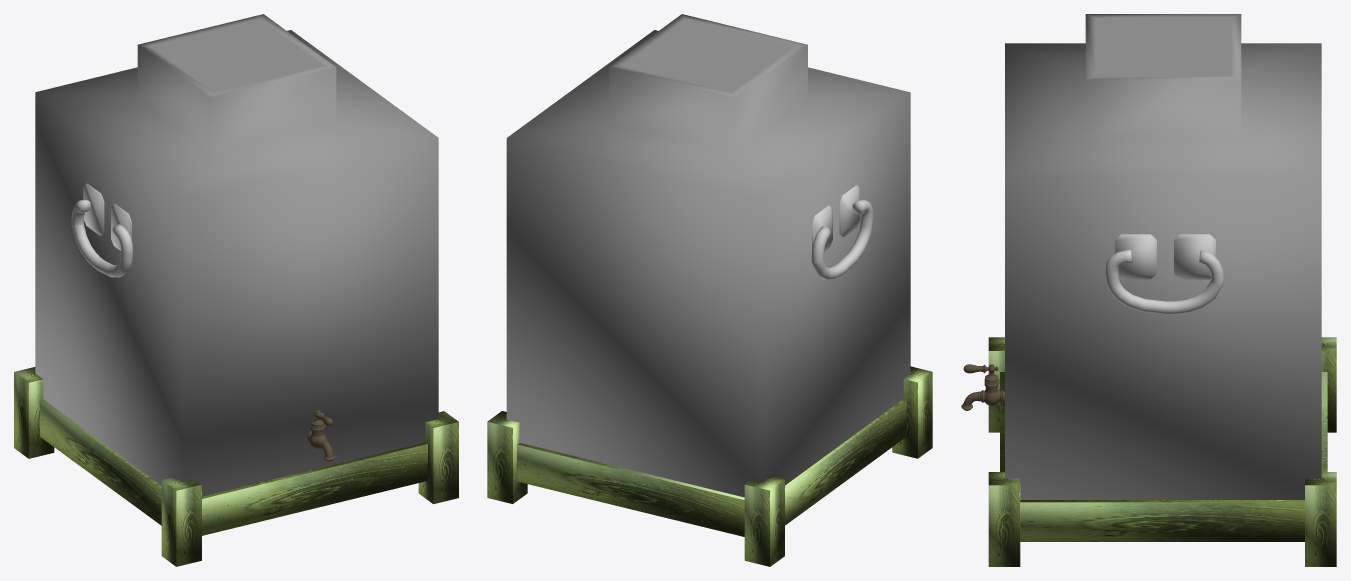
Rendered from Tank.obj.
3 views of the same model, side by side, from view 1: azimuth 30°, elevation 25°; view 2: azimuth 150°, elevation 25°; view 3: azimuth 270°, elevation 25° (orthographic). The views are drawn at different scales.
Visible parts, largest first — view 1: Box01, Box02, Box05, Box06, Box04, Loft01, Rectangle01, sub01; view 2: Box01, Box02, Box04, Box03, Box05, Loft01, Rectangle02; view 3: Box01, Box02, Box06, Box03, Loft02, Rectangle04, Rectangle03, Box04, sub01, Box05.
Boxes of the visible parts, x1=… form: Box01: x1=35, y1=14, x2=438, y2=496; Box02: x1=40, y1=399, x2=427, y2=535; Box05: x1=161, y1=476, x2=201, y2=566; Box06: x1=418, y1=411, x2=458, y2=504; Box04: x1=14, y1=367, x2=54, y2=458; Loft01: x1=71, y1=200, x2=132, y2=277; Rectangle01: x1=83, y1=183, x2=104, y2=235; sub01: x1=307, y1=410, x2=335, y2=461; Box01: x1=506, y1=14, x2=910, y2=497; Box02: x1=517, y1=399, x2=906, y2=536; Box04: x1=744, y1=476, x2=784, y2=566; Box03: x1=487, y1=411, x2=527, y2=503; Box05: x1=892, y1=366, x2=932, y2=458; Loft01: x1=811, y1=200, x2=872, y2=279; Rectangle02: x1=839, y1=185, x2=860, y2=237; Box01: x1=1005, y1=14, x2=1321, y2=499; Box02: x1=1000, y1=372, x2=1327, y2=541; Box06: x1=988, y1=472, x2=1020, y2=566; Box03: x1=1305, y1=472, x2=1336, y2=566; Loft02: x1=1105, y1=250, x2=1223, y2=314; Rectangle04: x1=1115, y1=234, x2=1156, y2=279; Rectangle03: x1=1174, y1=234, x2=1215, y2=279; Box04: x1=1321, y1=337, x2=1336, y2=432; sub01: x1=961, y1=364, x2=1004, y2=410; Box05: x1=988, y1=337, x2=1004, y2=432.
Bounding box in the file's own units: 4.35 × 6.13 × 4.67.
